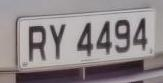4: (74, 18, 96, 60), (94, 17, 115, 60), (131, 14, 151, 56)
9: (113, 15, 133, 59)
R: (22, 22, 50, 67)
Y: (46, 20, 72, 65)
